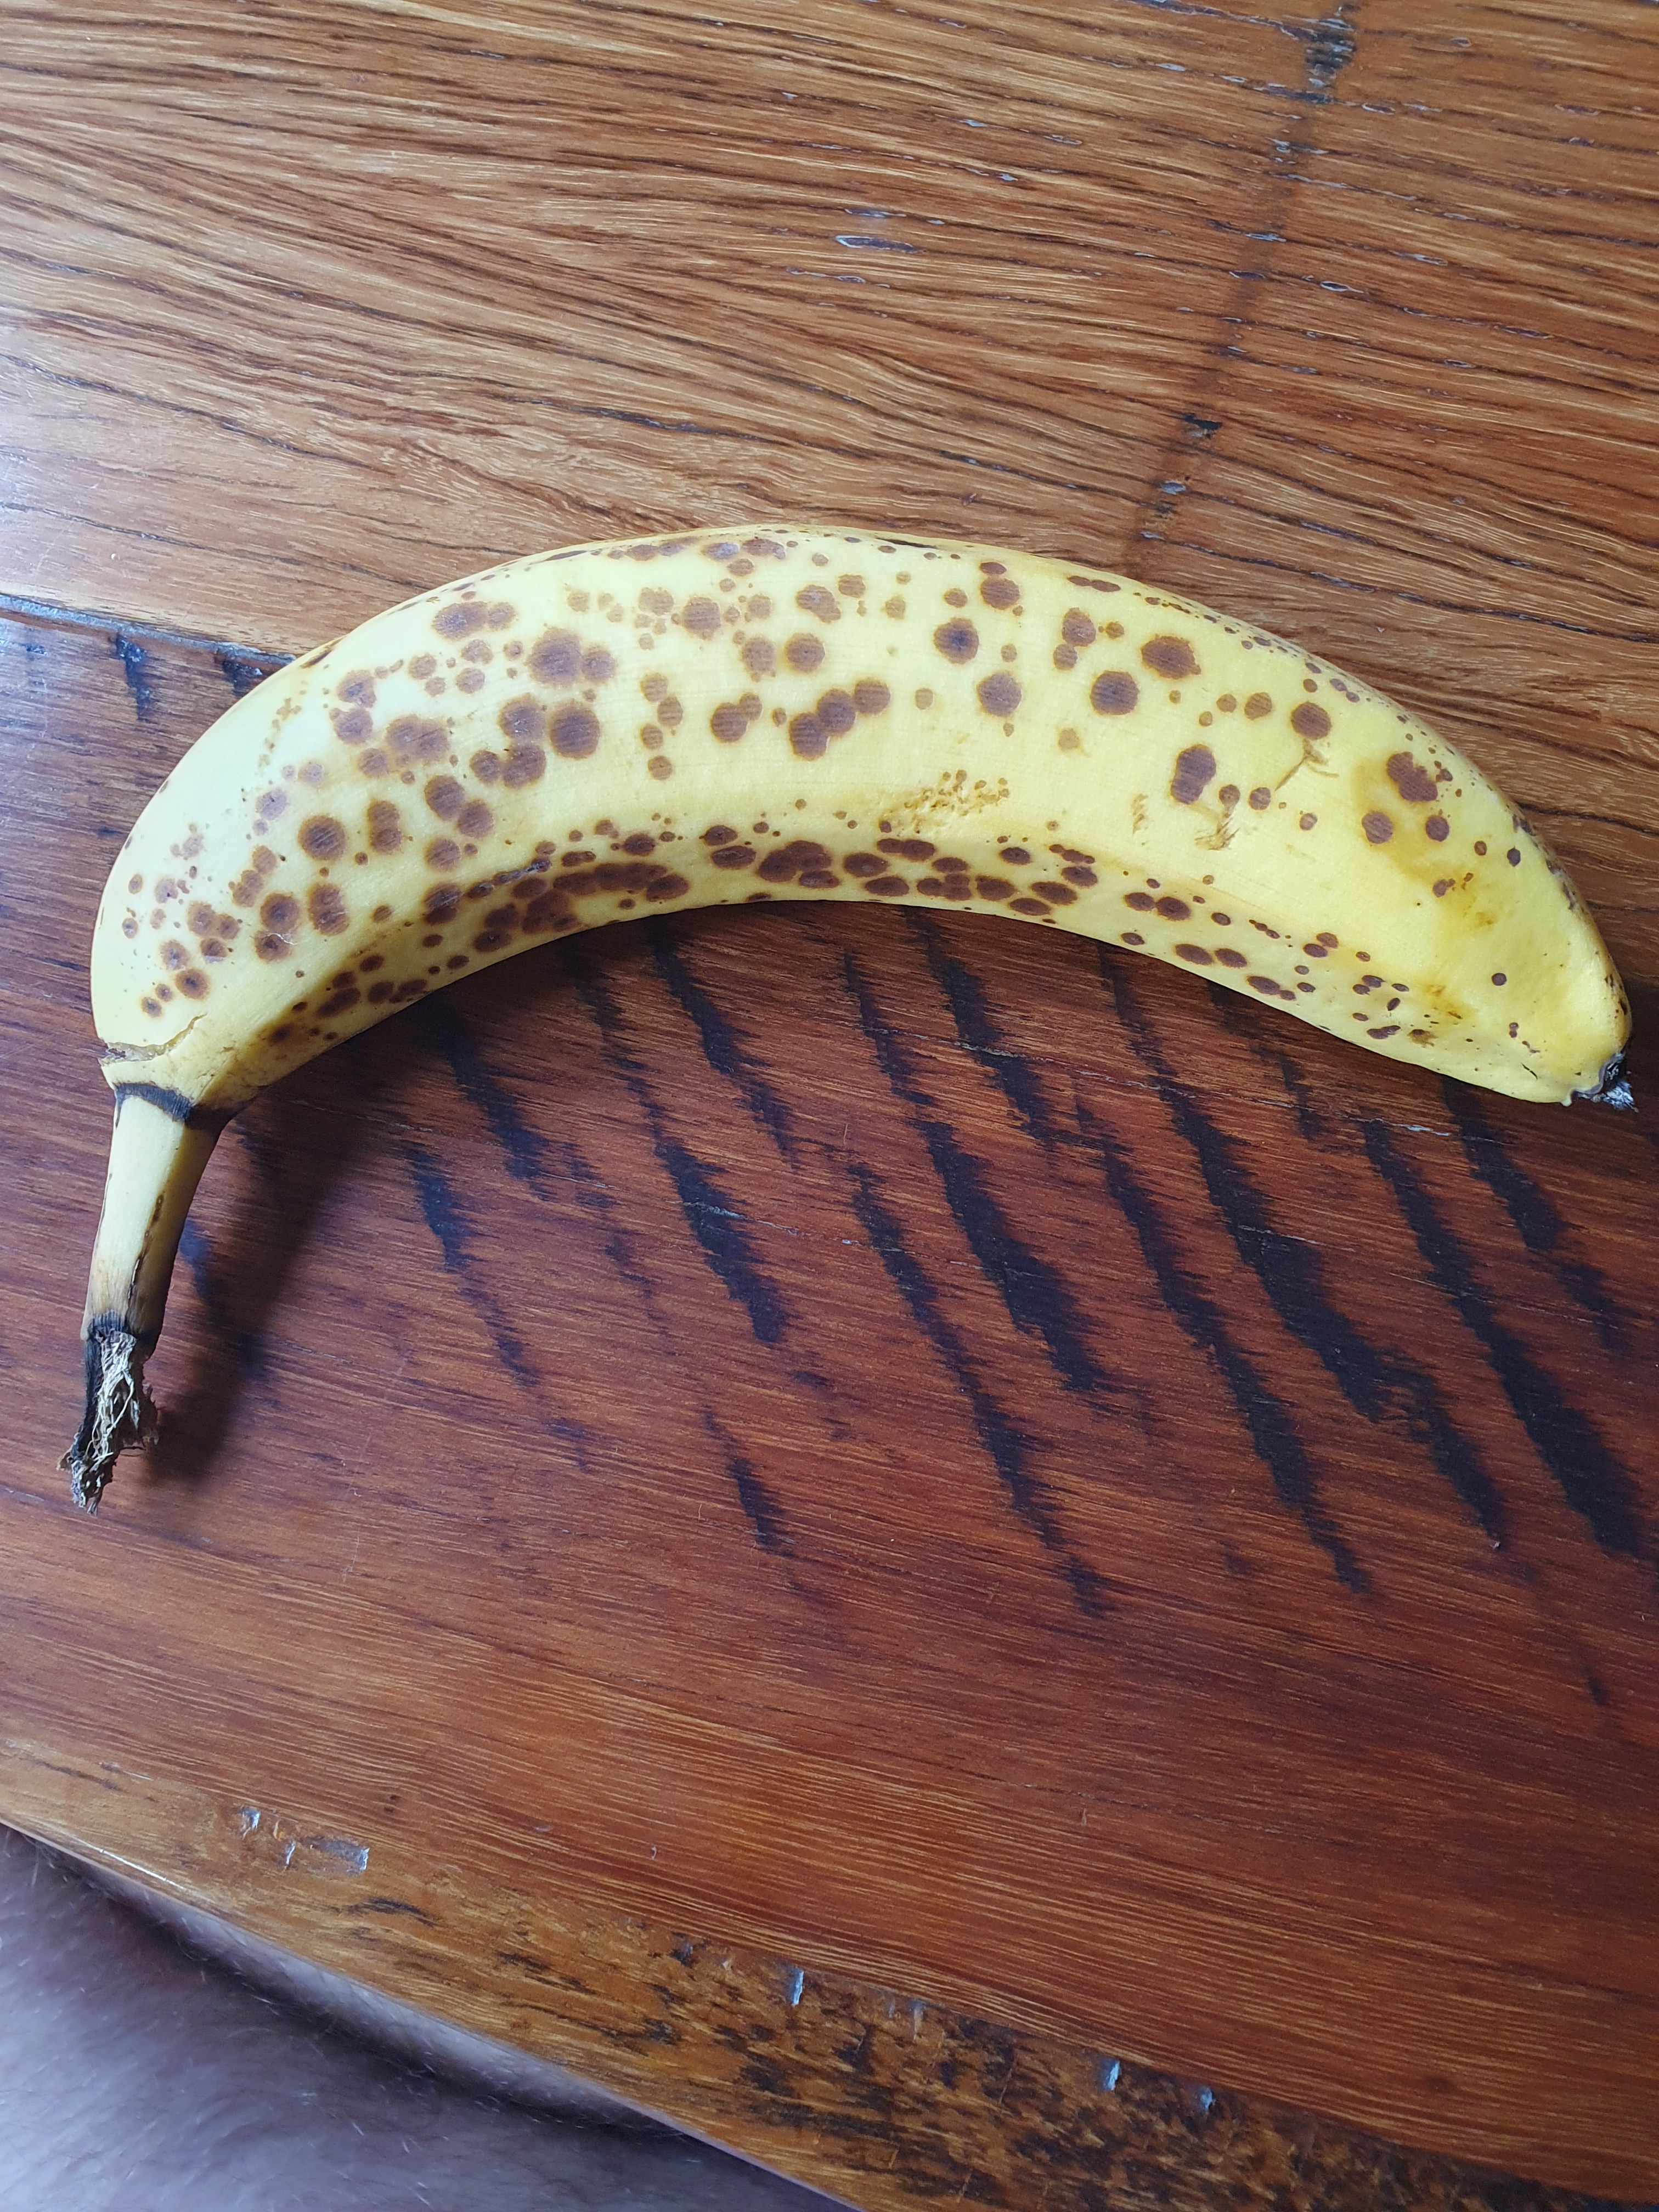banana: (47, 327, 1657, 1554)
